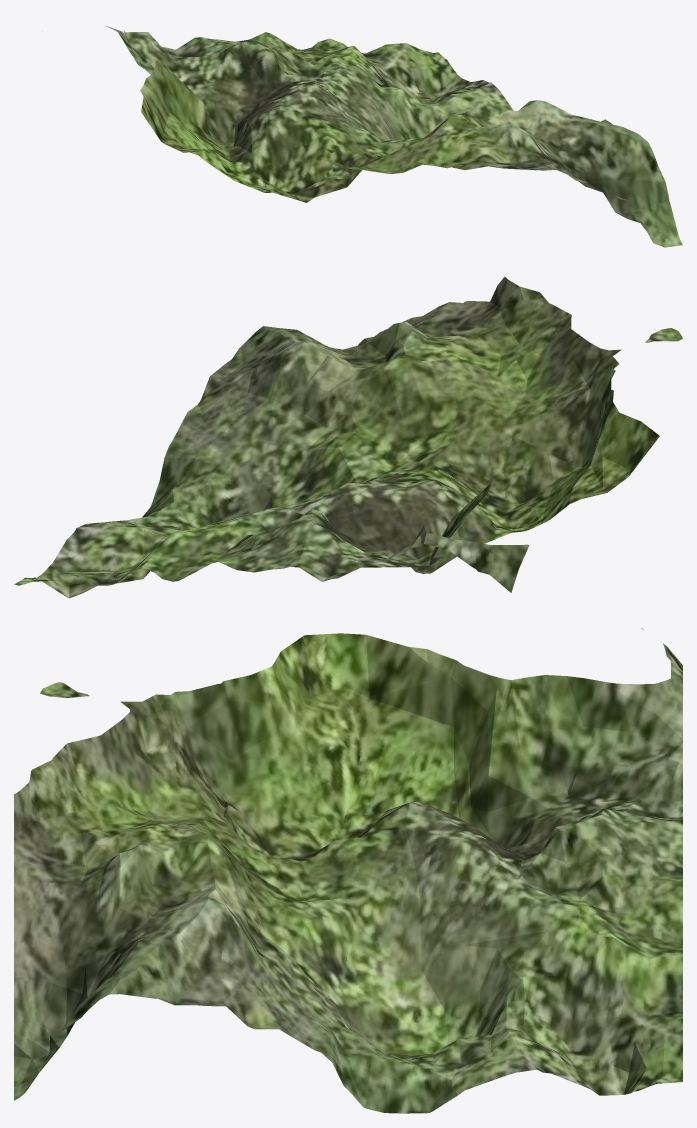
3 renders of one model, top to bottom at view 1: azimuth 30°, elevation 25°; view 2: azimuth 150°, elevation 25°; view 3: azimuth 270°, elevation 25°, orthographic. The views are drawn at different scales.
Size of the model in its own units: 2.95 by 0.9895 by 2.95.
Materials: 3 (3 with a texture image).
